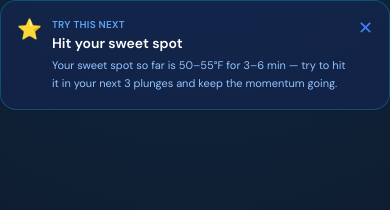
Test case: TryThisNextCard dismiss-key behaviour › hides the card after the dismiss button is clicked
The width and height of the screenshot is (390, 210).
Click the button with test id "button-dismiss-try-next": (365, 28) x1=358 y1=19 x2=373 y2=37
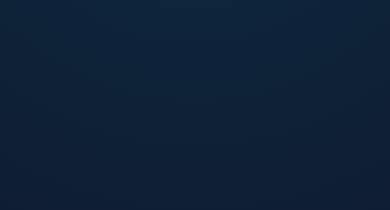
Check: the element with test id "try-this-next-card" is gone
